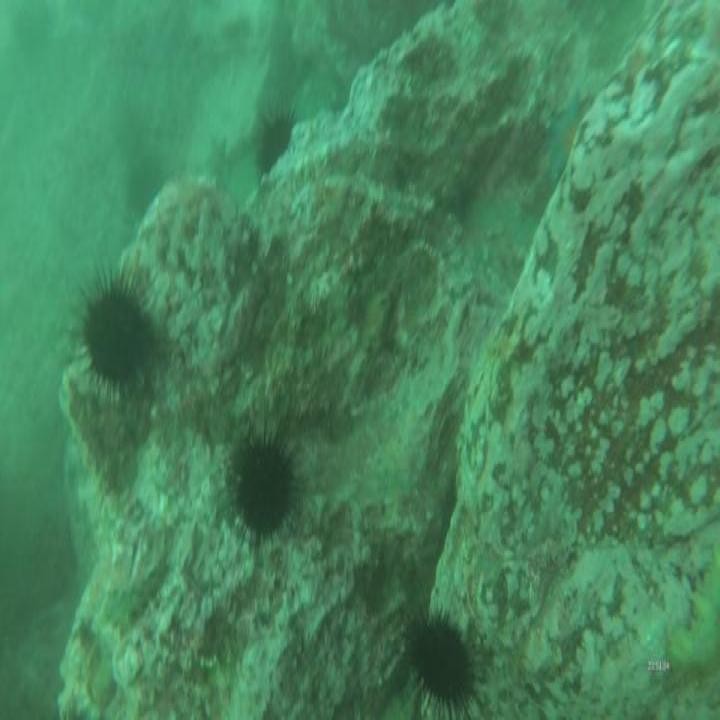echinus: (65, 263, 162, 407), (221, 414, 305, 553), (396, 595, 485, 720), (249, 105, 296, 188)
starfish: (545, 91, 583, 183)
